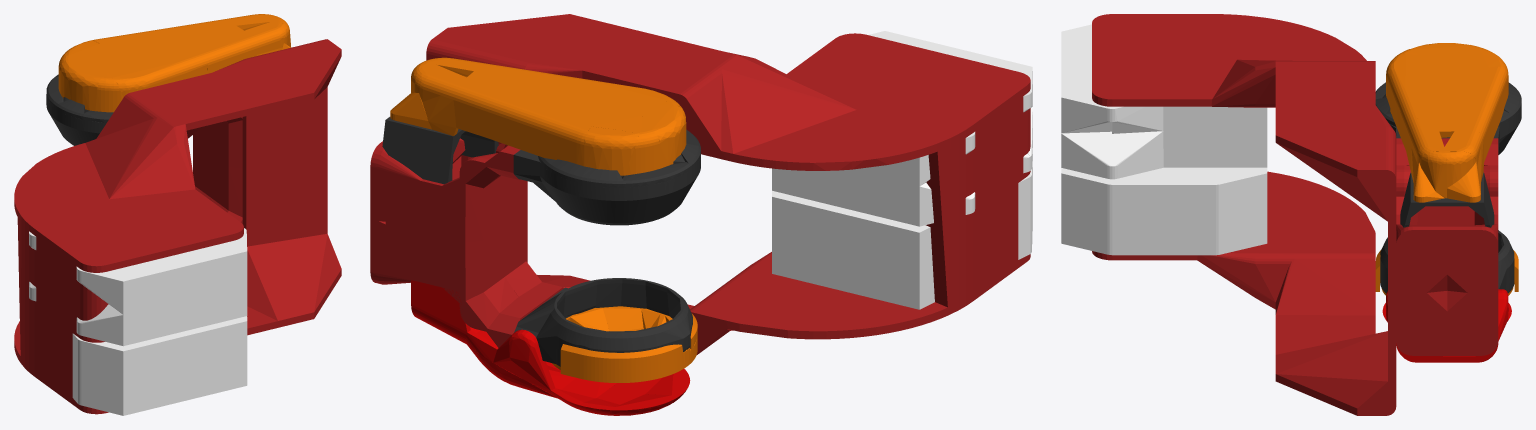
The model's file is HEAD_LINK1_mesh.dae.
3 views of the same model, side by side, from view 1: azimuth 30°, elevation 25°; view 2: azimuth 150°, elevation 25°; view 3: azimuth 270°, elevation 25° (orthographic). The views are drawn at different scales.
Visible parts, largest first — view 1: HEAD_LINK1 (×7); view 2: HEAD_LINK1 (×12); view 3: HEAD_LINK1 (×10).
Part boxes in pixels (x1=…): HEAD_LINK1 (×7): x1=14, y1=14, x2=341, y2=415; HEAD_LINK1 (×12): x1=370, y1=14, x2=1032, y2=415; HEAD_LINK1 (×10): x1=1061, y1=14, x2=1521, y2=415.
Bounding box in the file's own units: 0.2314 × 0.1389 × 0.2256.
